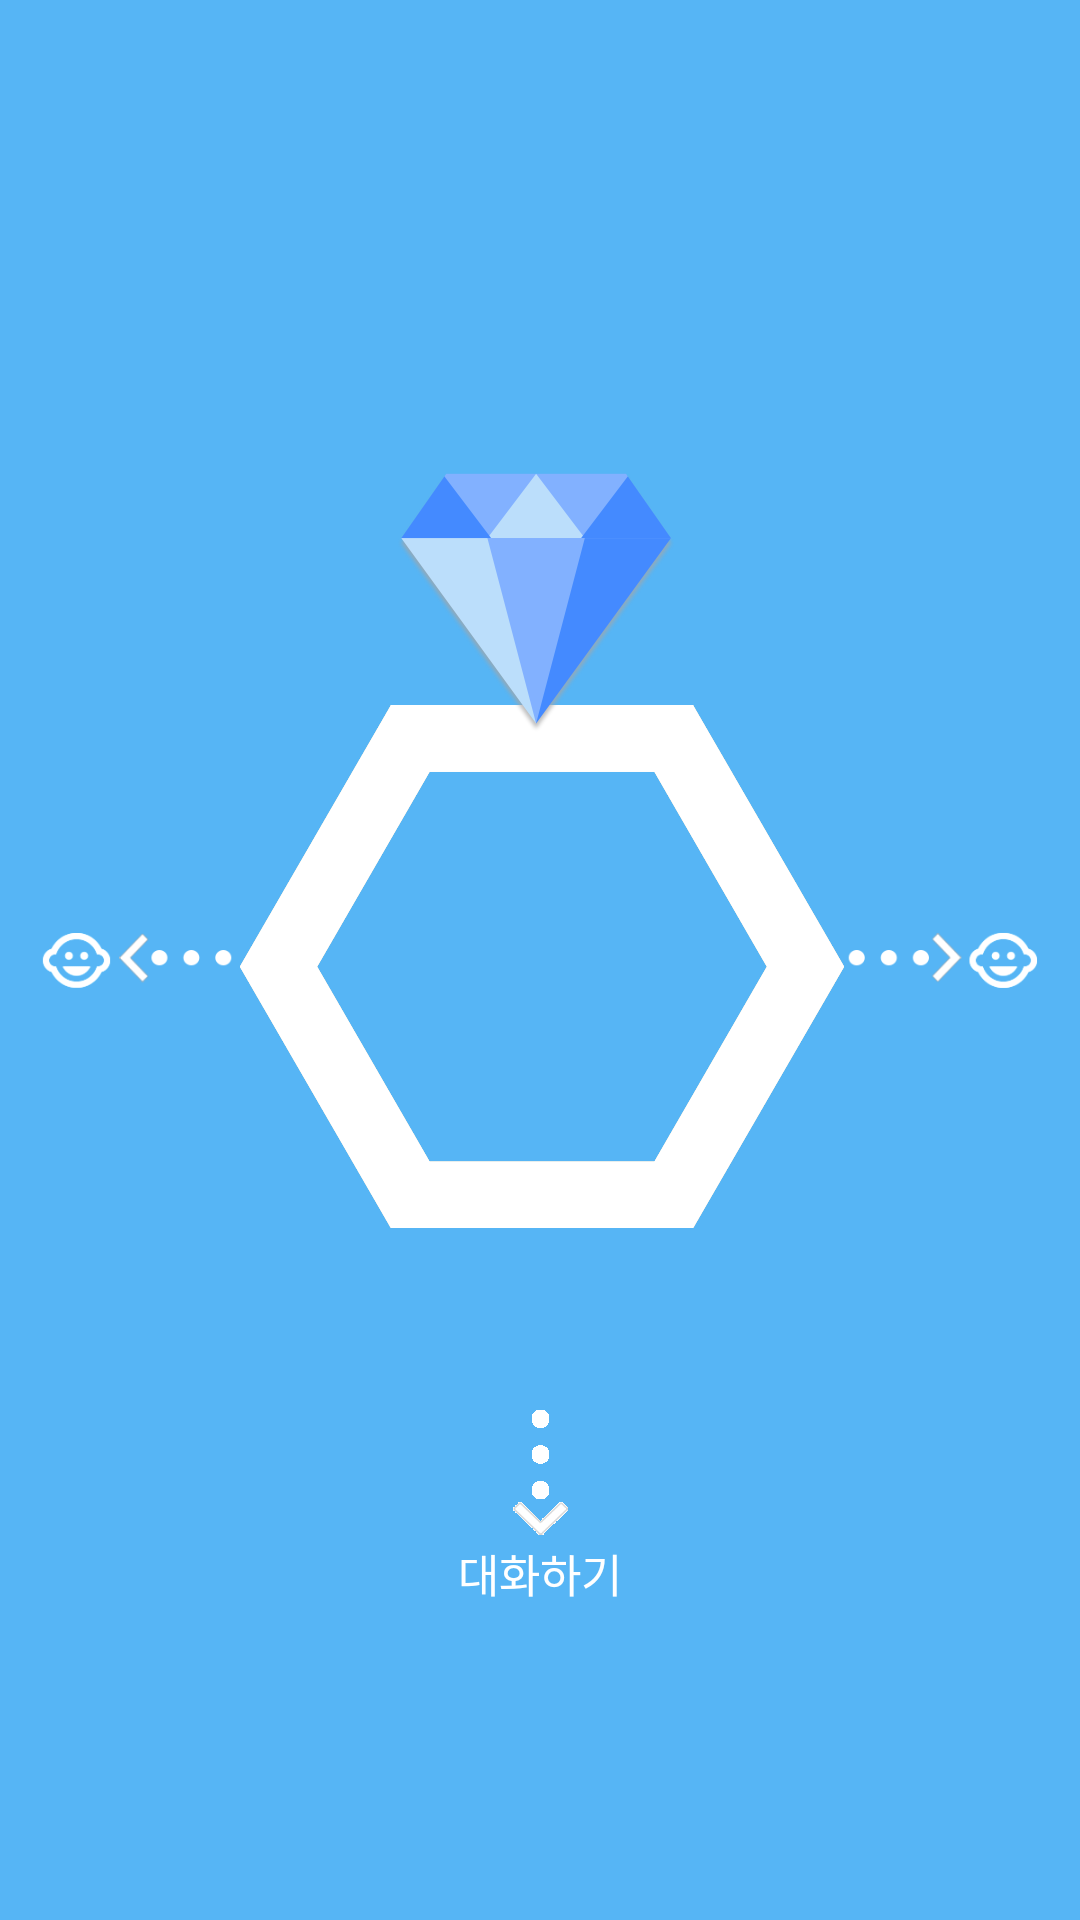

Point at icon controls on the screen. Image size 1080*1920, points as point (x, y).
noti diamond: point (539, 604)
noti left send: point (137, 960)
noti right send: point (942, 960)
